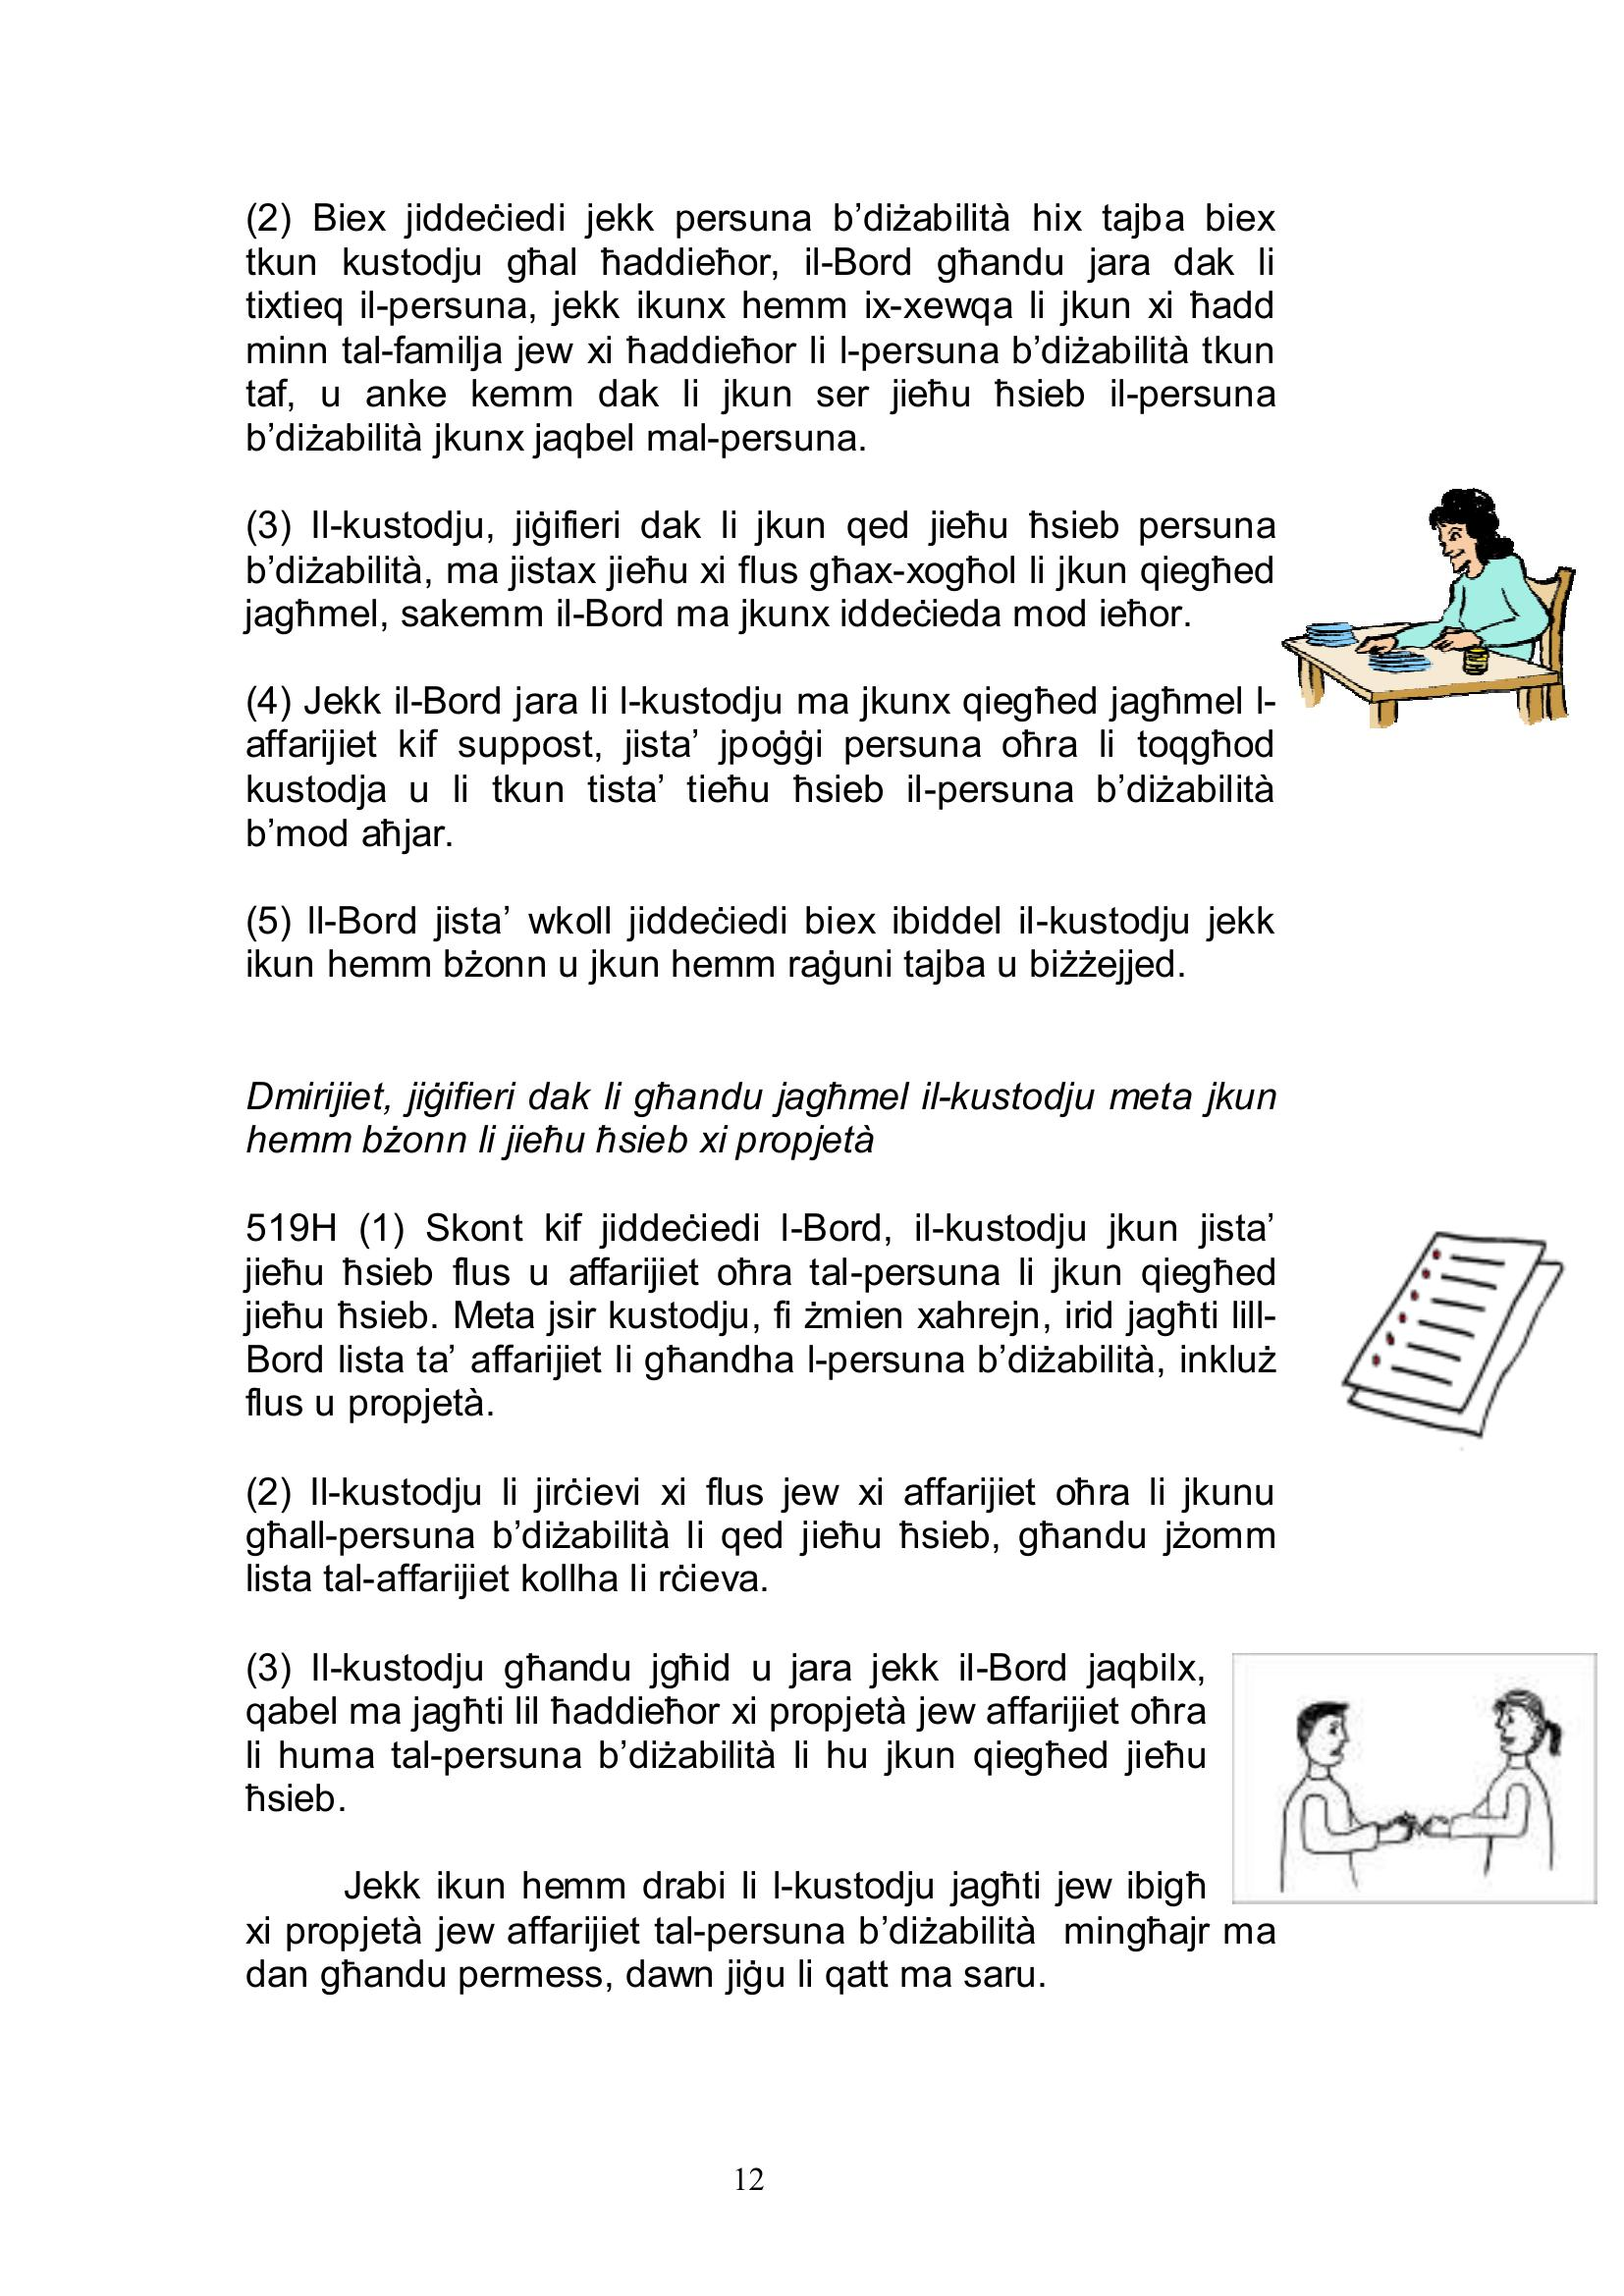text: (216, 177, 1292, 2029)
whiteout: (1218, 1641, 1601, 1911), (1265, 613, 1348, 682)
